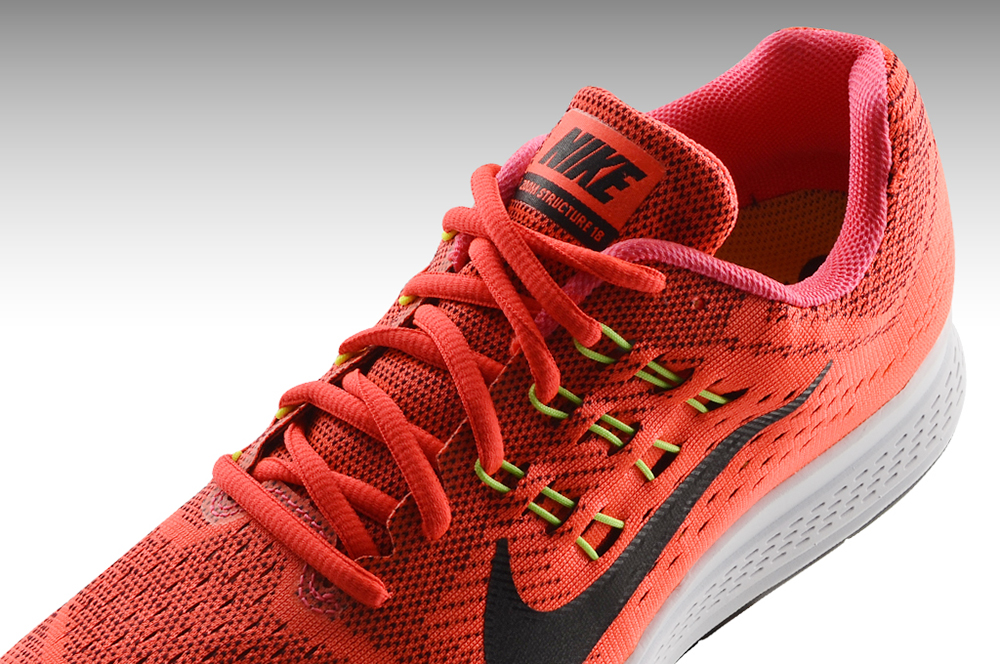Nike: (479, 338, 838, 664)
